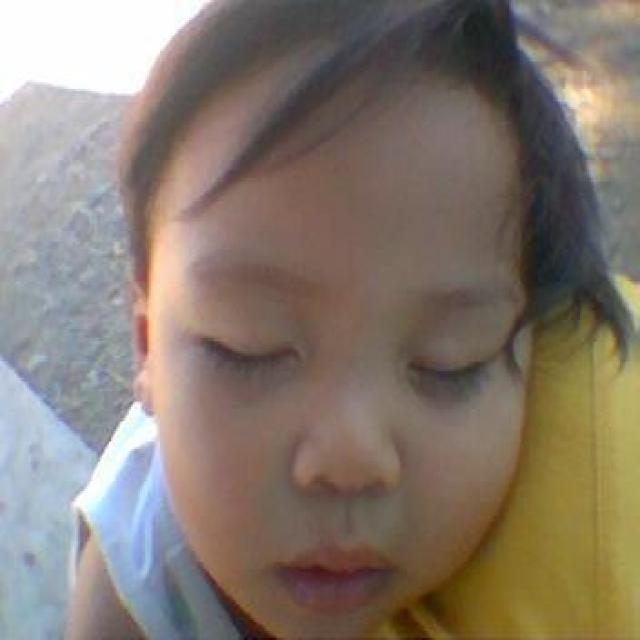person: (68, 1, 639, 639)
